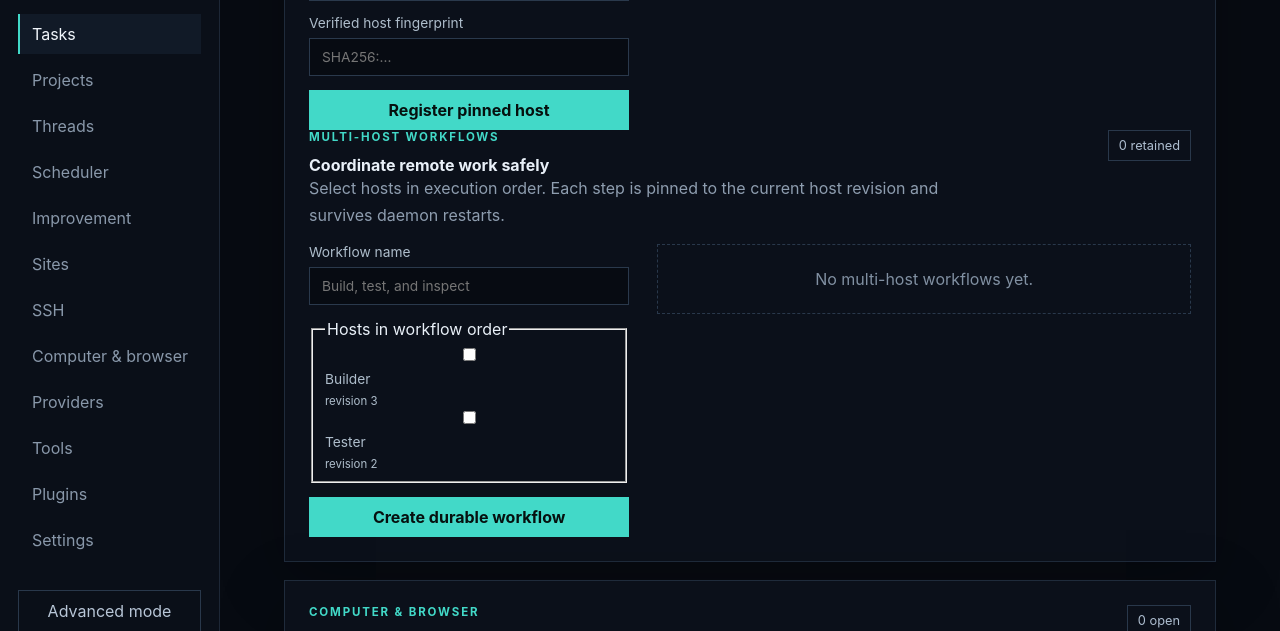
Scenario: simple SSH workflow pins selected hosts and exposes run state
(page scrolled)
Step 1. Type "Cross-platform check" into the field labelled "Workflow name" → (469, 286), box top-left (309, 267), bottom-right (629, 305)
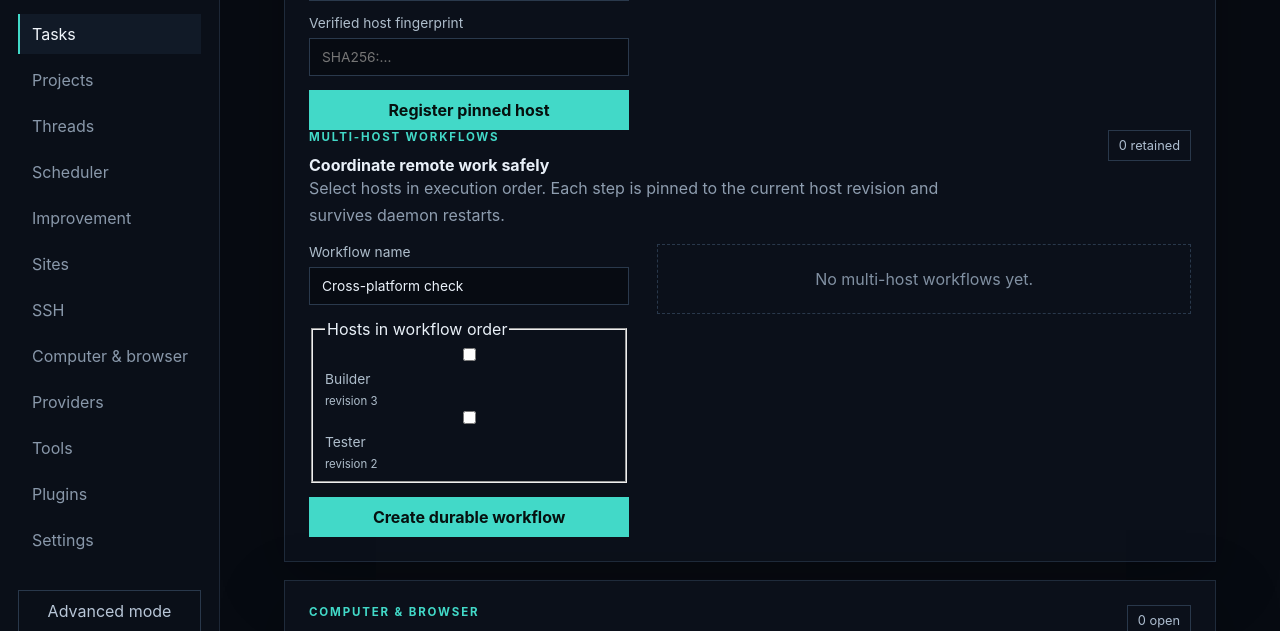
Step 2. Click the checkbox labelled "Builder revision 3" → (470, 354), box top-left (329, 348), bottom-right (610, 361)
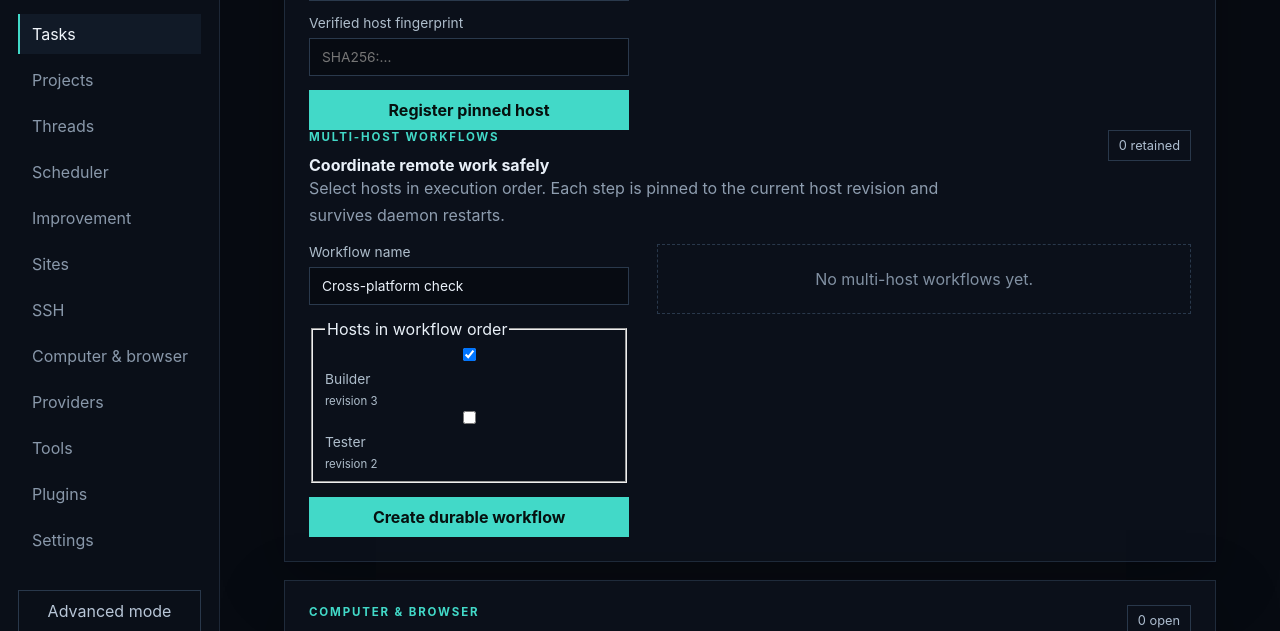
Step 3. Click the checkbox labelled "Tester revision 2" → (470, 417), box top-left (329, 411), bottom-right (610, 424)
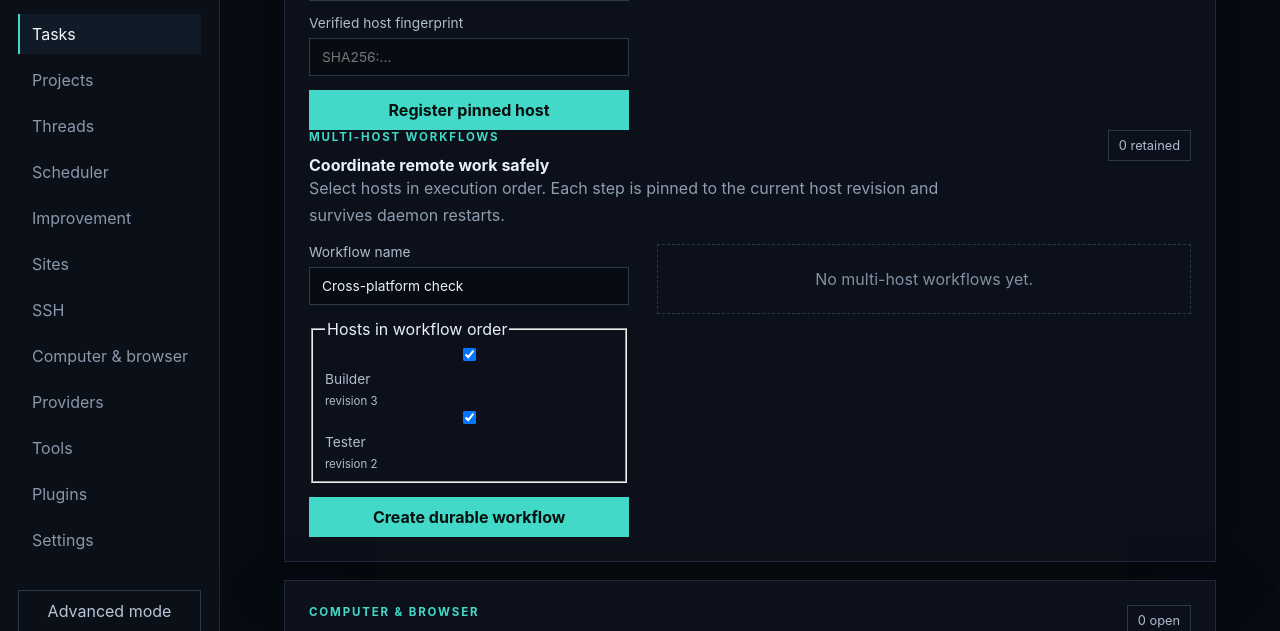
Step 4. Click the button "Create durable workflow" → (469, 517), box top-left (309, 497), bottom-right (629, 537)
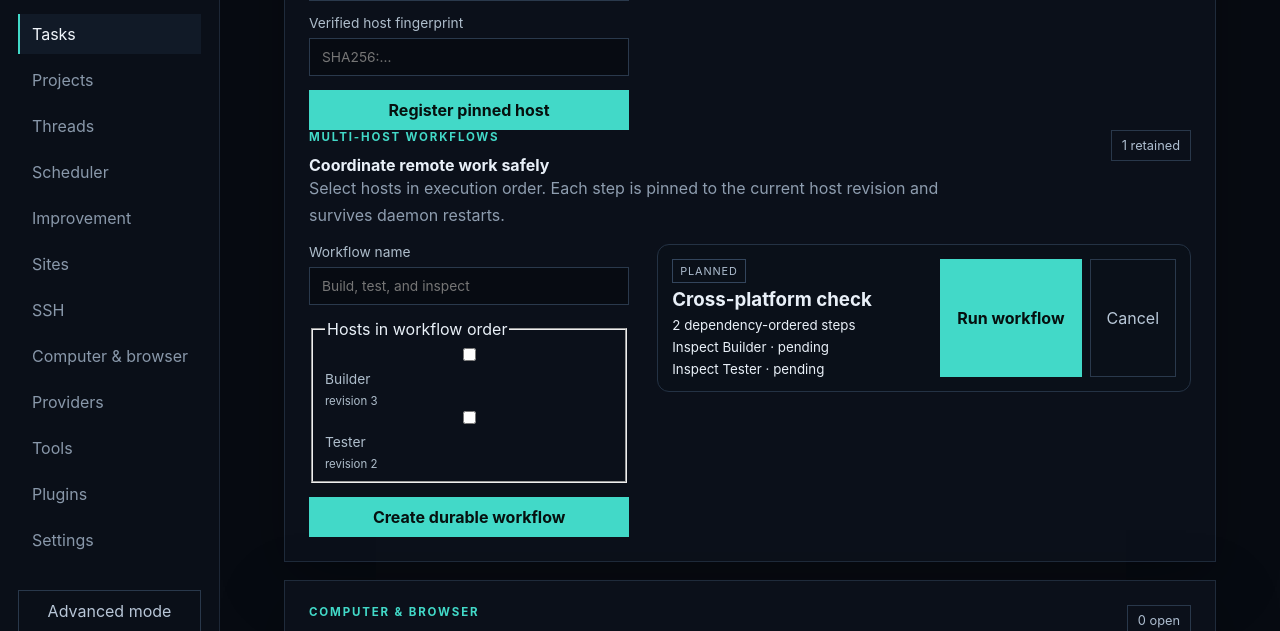
Now the heading "Cross-platform check" is shown, box top-left (672, 288), bottom-right (872, 311)
Step 5. Click the button "Run workflow" → (1011, 318), box top-left (940, 259), bottom-right (1082, 377)
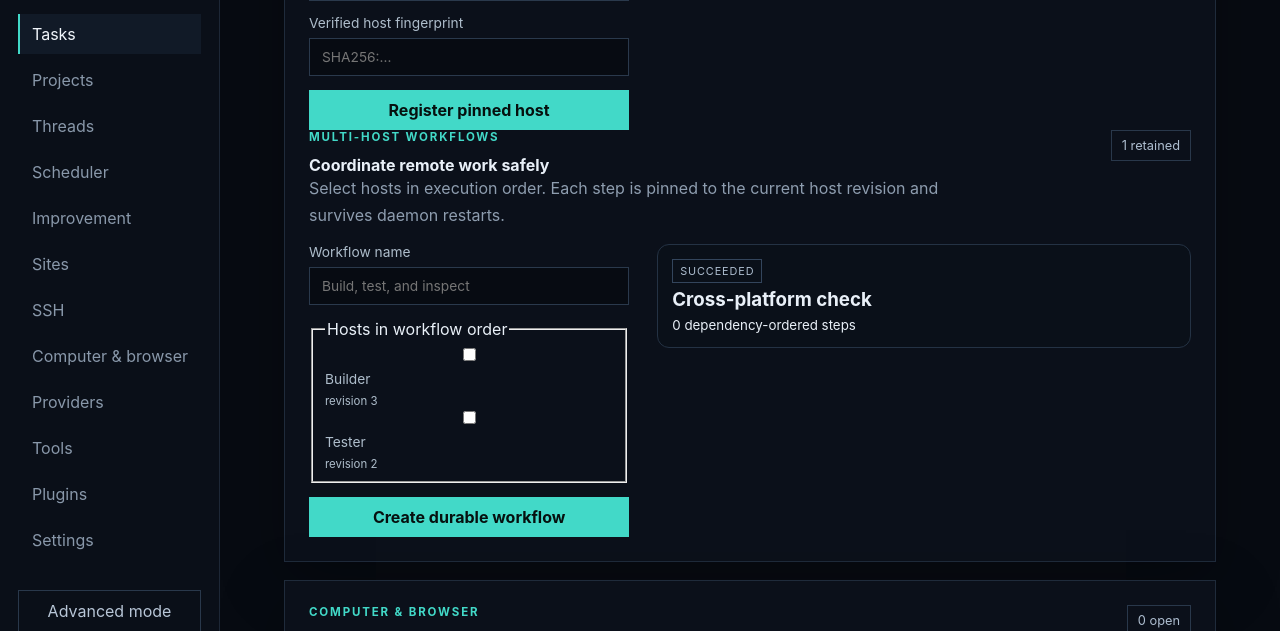
Now the text "succeeded" is shown, box top-left (672, 259), bottom-right (762, 283)
